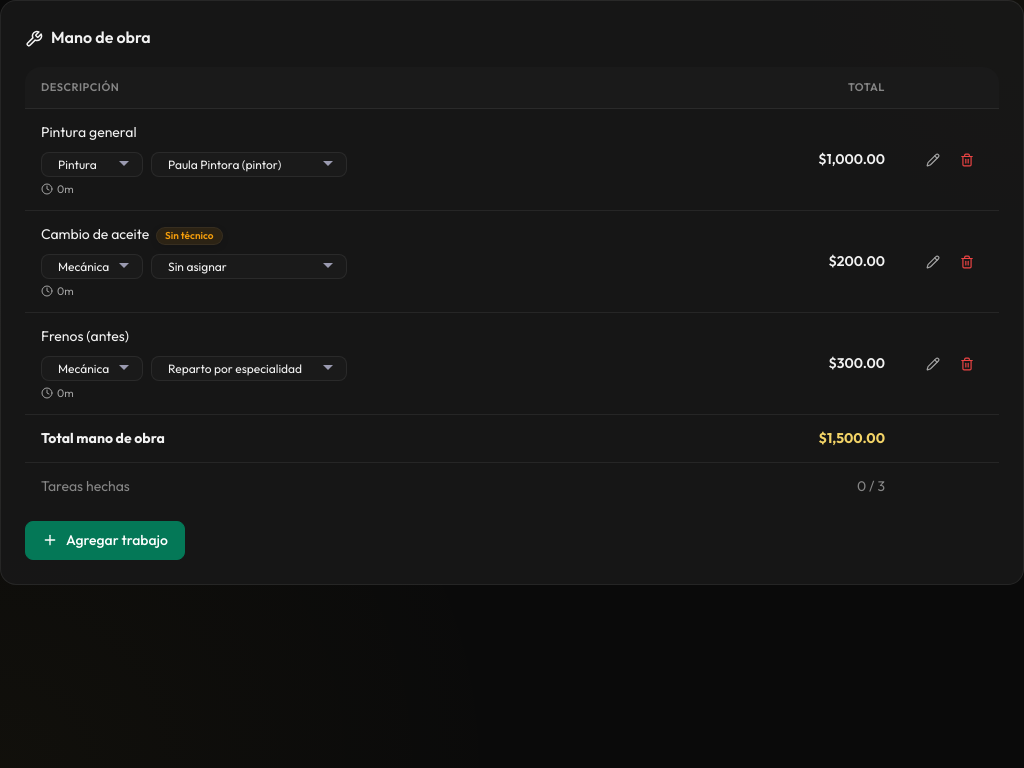
Test: LaborTable: tipo y técnico de cada línea › una tarea de pintura a un mecánico pregunta antes, y "Asignar igual" la asigna
This screenshot has width=1024, height=768.
Select "Mario Mecánico (mecánico)" in the dropdown named "Técnico" below "Pintura general" at x=249, y=164, box top-left (151, 152), bottom-right (347, 177)
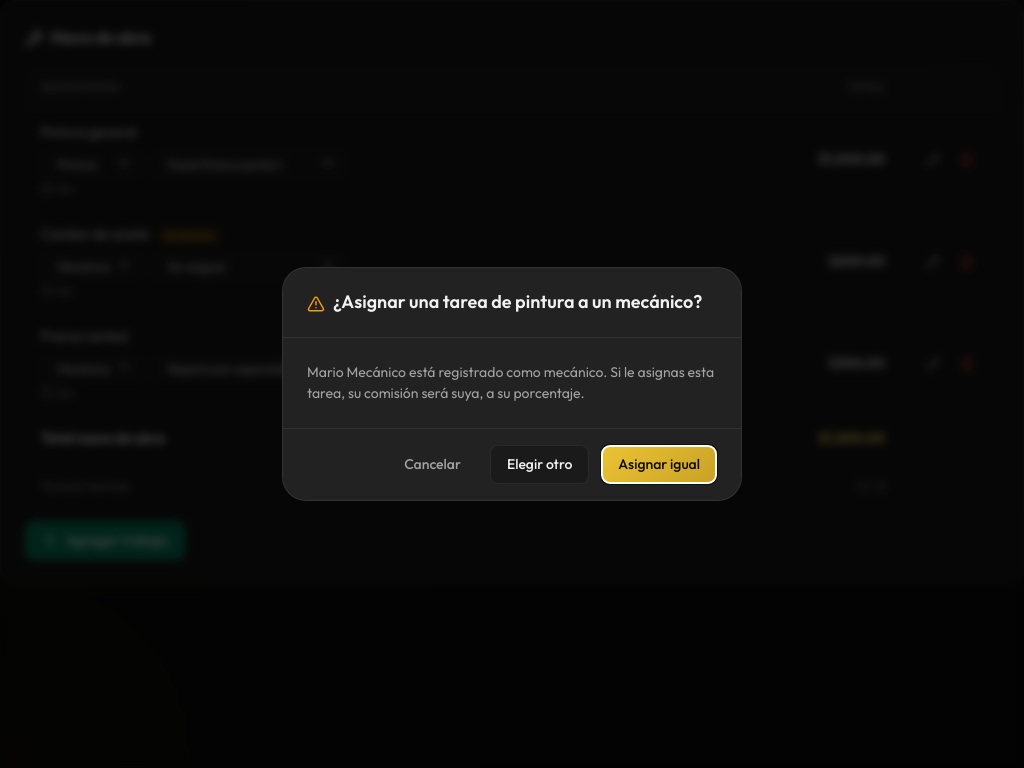
Click the button "Asignar igual" at x=659, y=464, box top-left (601, 445), bottom-right (717, 484)
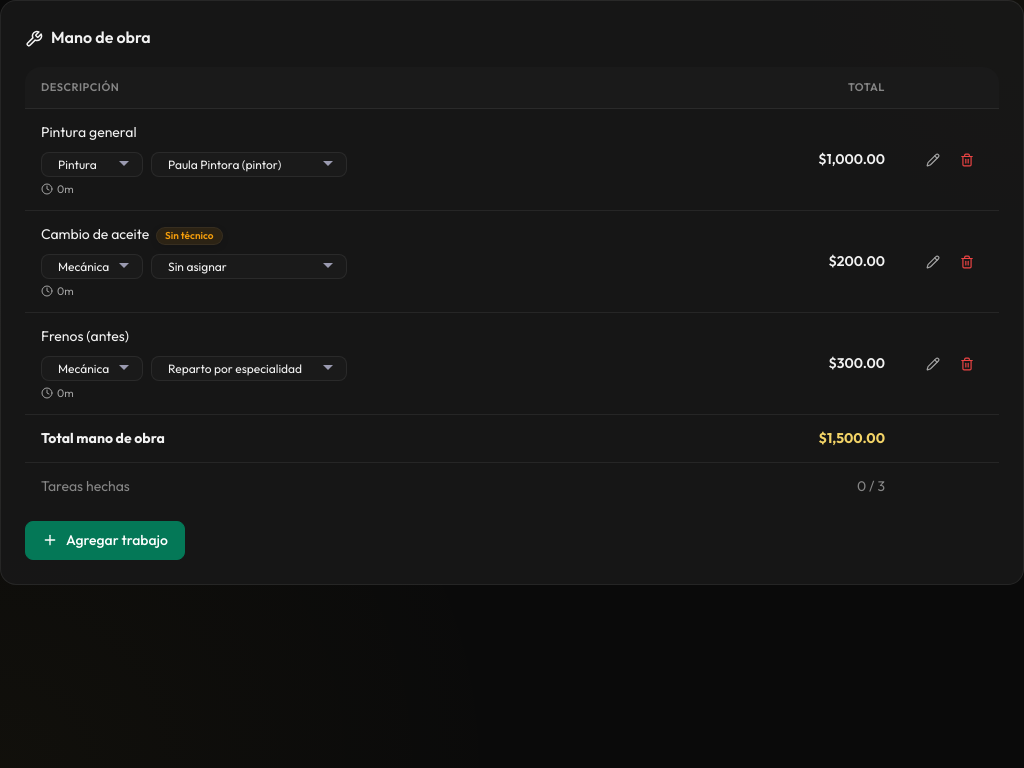
Expected: the dialog is gone
